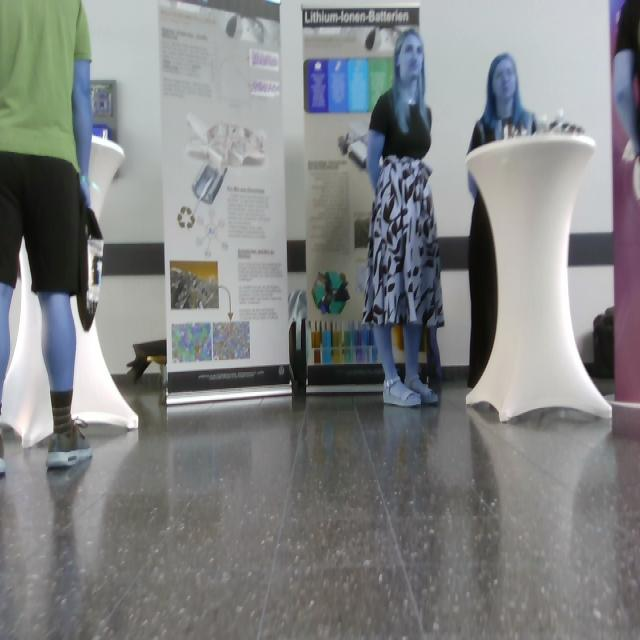door: (158, 1, 294, 405)
light bulb: (77, 133, 126, 332), (186, 112, 267, 205), (87, 133, 126, 225), (192, 162, 227, 205), (338, 122, 370, 169), (86, 236, 104, 316), (226, 13, 266, 44), (365, 26, 399, 53)
person: (1, 1, 97, 477), (363, 29, 445, 408)
pillar: (465, 132, 613, 422)
tiled floor: (1, 368, 639, 640)
